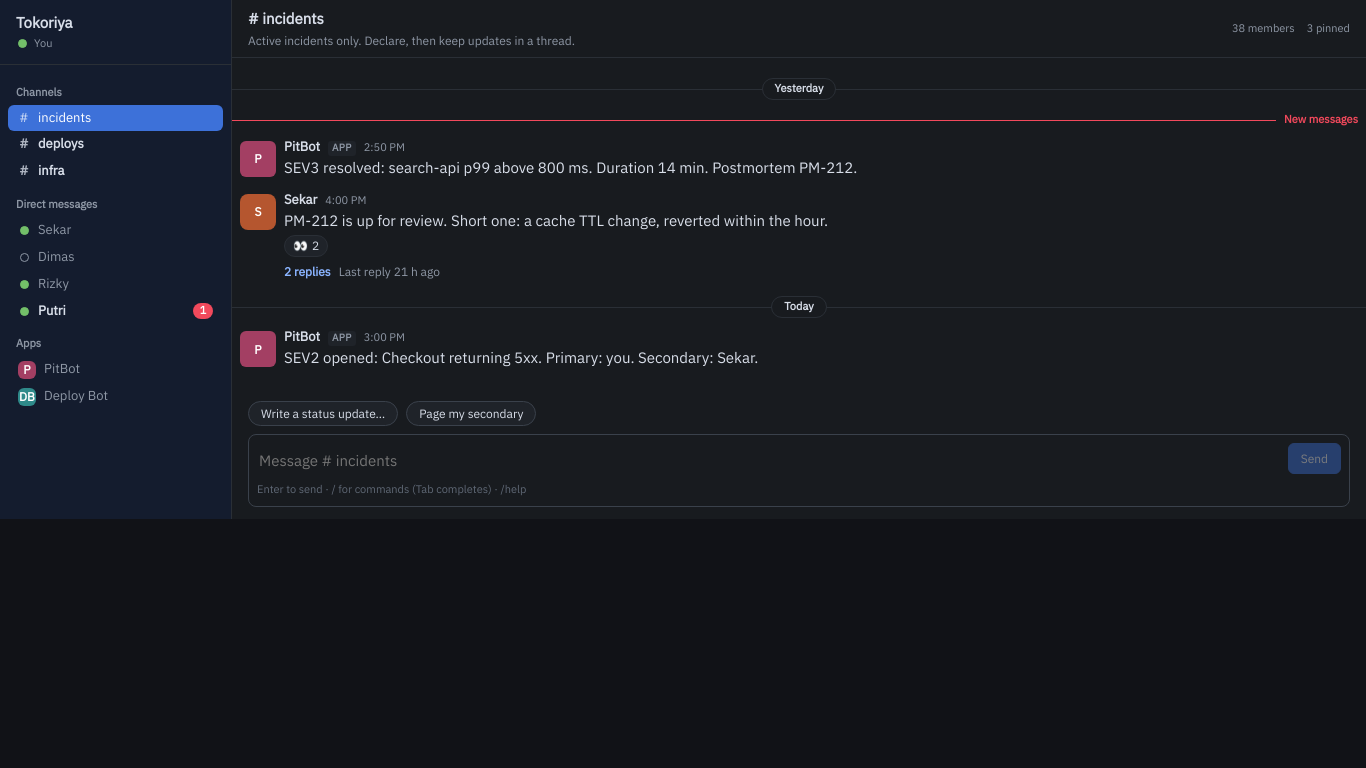
Scenario: a chat you can use (M2.5 spec §7) › /help and mistakes show a note, and nothing is posted
Type "/help" into the text box labelled "Message # incidents".
click(768, 461); type("/help")  # box [257, 448, 1280, 474]
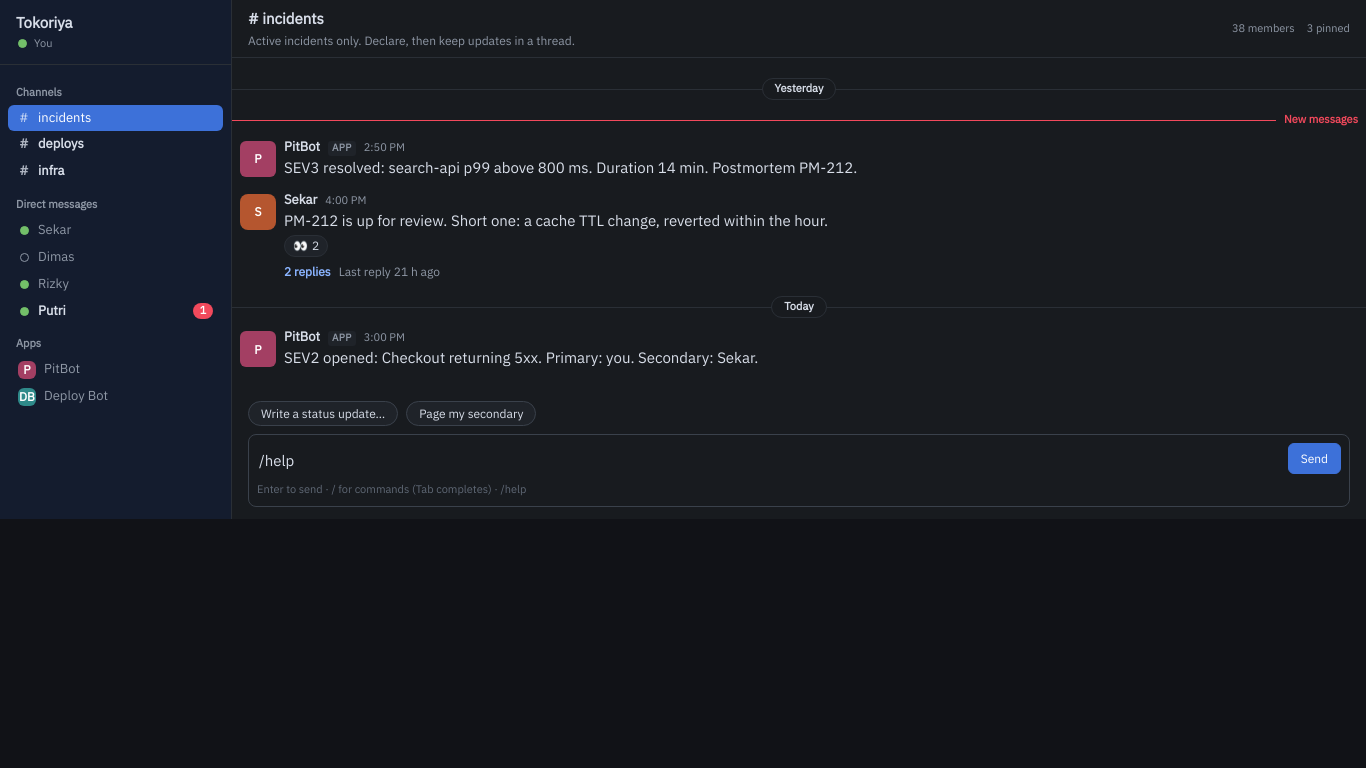
Press Enter in the text box named "Message ", box [257, 448, 1280, 474]
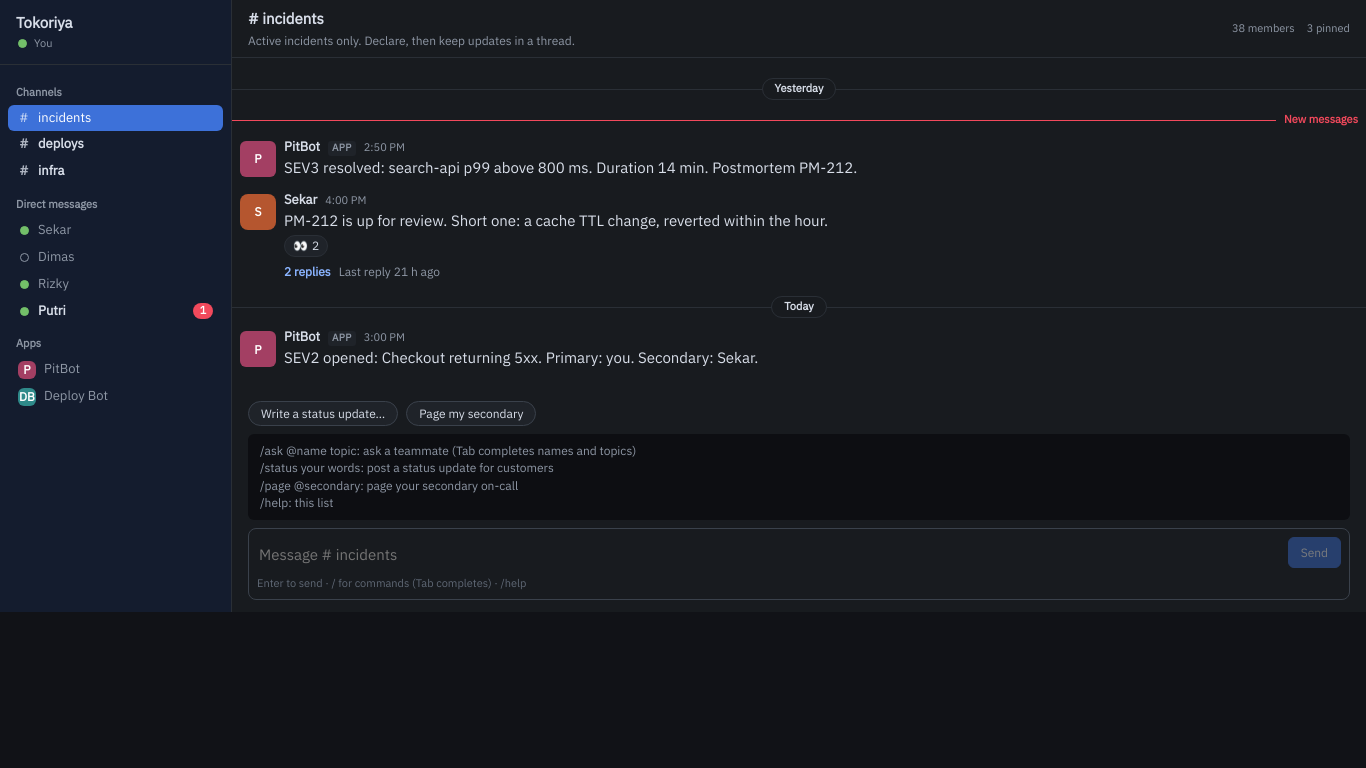
Result: the message named "Chat note" shows "/ask @name topic" at [260, 443, 636, 510]
Type "/ask @nobody changes" into the text box labelled "Message # incidents".
click(768, 555); type("/ask @nobody changes")  # box [257, 542, 1280, 568]
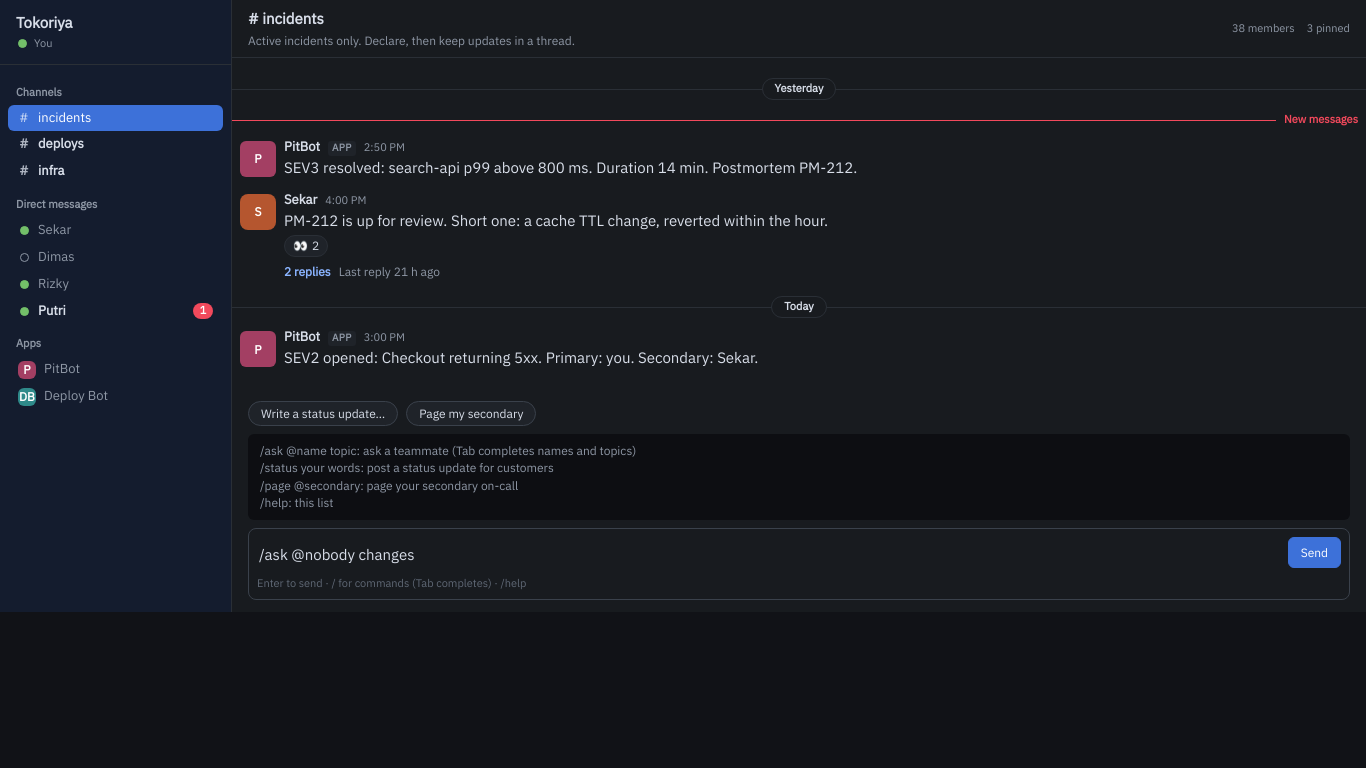
Press Enter in the text box named "Message ", box [257, 542, 1280, 568]
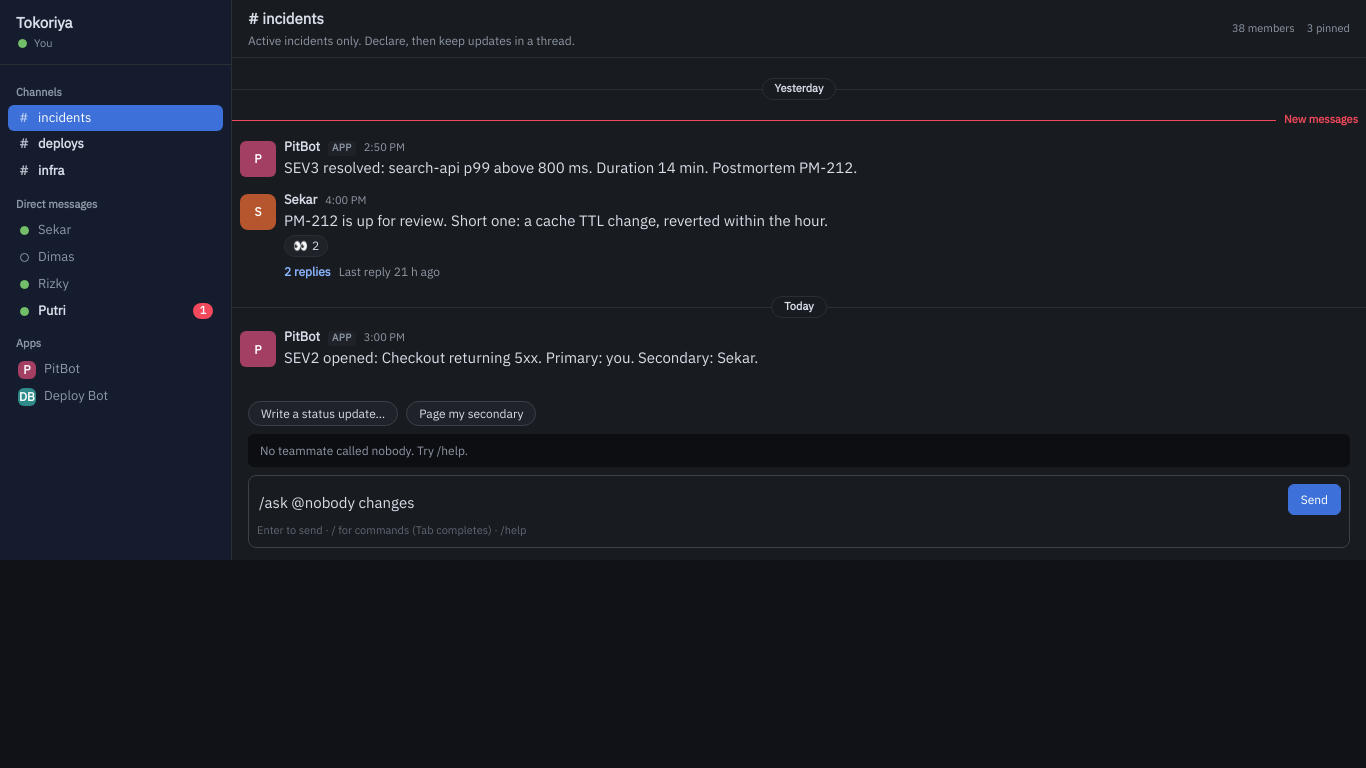
Result: the message named "Chat note" reads "No teammate called nobody. Try /help." at [260, 443, 468, 458]
